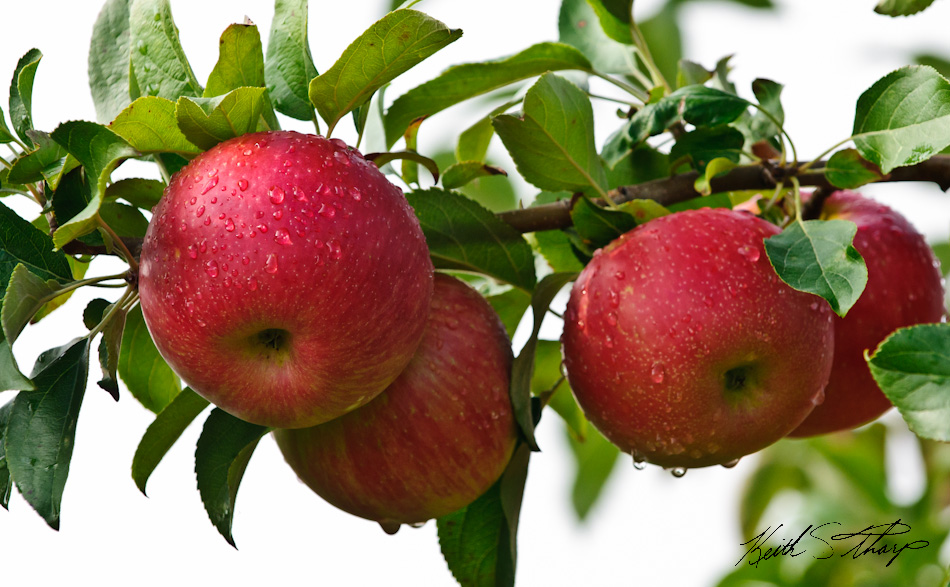apple: (139, 125, 441, 439), (559, 211, 838, 464), (252, 272, 529, 514), (699, 185, 939, 453)
